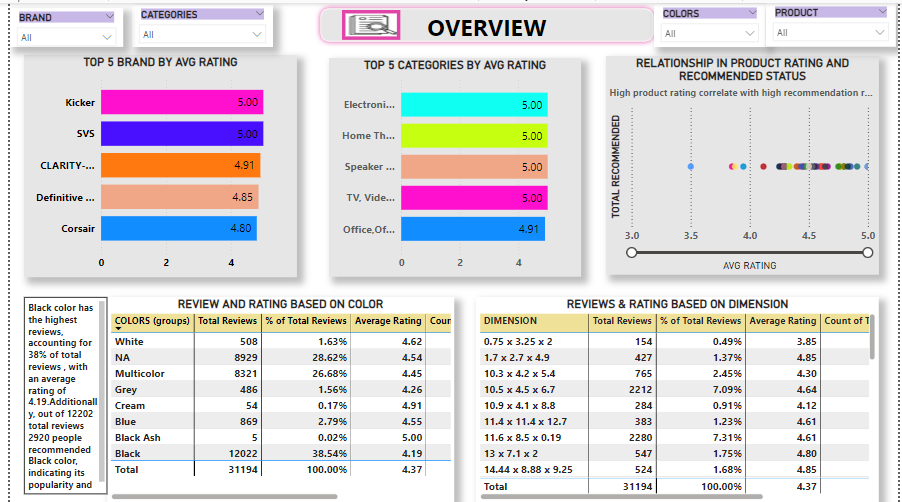

Layout of this report page (visuals, bound fields, positions):
{"tool":"powerbi","page":{"name":"Page 2","canvas":[1280,720],"ordinal":1},"visuals":[{"type":"shape","box":[439.2,0,495.4,63.4],"z":0},{"type":"image","box":[478.1,10.1,83.5,43.2],"z":1000},{"type":"barChart","title":"TOP 5 BRAND BY AVG RATING","fields":{"Category":["Dataset.BRAND"],"Y":["Avg(Dataset.REVIEWS RATING)"]},"box":[20.2,74.9,393.1,319.7],"z":2000},{"type":"clusteredBarChart","title":"TOP 5 CATEGORIES BY AVG RATING","fields":{"Category":["Dataset.CATEGORIES"],"Y":["Avg(Dataset.REVIEWS RATING)"]},"box":[459.4,79.2,362.9,315.4],"z":3000},{"type":"scatterChart","title":"RELATIONSHIP IN PRODUCT RATING AND RECOMMENDED STATUS","fields":{"X":["Avg(Dataset.REVIEWS RATING)"],"Category":["Dataset.PRODUCT"]},"box":[858.2,76.3,393.1,315.4],"z":4000},{"type":"tableEx","title":"REVIEW AND RATING BASED ON COLOR","fields":{"Values":["Dataset.COLORS (groups)","Sum(Dataset.REVIEWS RATING)","Divide(Sum(Dataset.REVIEWS RATING), ScopedEval(Sum(Dataset.REVIEWS RATING), []))","Avg(Dataset.REVIEWS RATING)","Dataset.TOTAL RECOMMENDED REVIEWS"]},"box":[139.7,423.4,499.7,296.6],"z":5000},{"type":"tableEx","title":"REVIEWS & RATING BASED ON DIMENSION","fields":{"Values":["Dataset.DIMENSION","Sum(Dataset.REVIEWS RATING)","Divide(Sum(Dataset.REVIEWS RATING), ScopedEval(Sum(Dataset.REVIEWS RATING), []))","Avg(Dataset.REVIEWS RATING)","Dataset.TOTAL RECOMMENDED REVIEWS"]},"box":[671,423.4,580.3,296.6],"z":6000},{"type":"textbox","box":[20.2,423.4,119.5,283.7],"z":7000},{"type":"slicer","fields":{"Values":["Dataset.BRAND"]},"box":[0,7.2,162.7,56.2],"z":8000},{"type":"slicer","fields":{"Values":["Dataset.CATEGORIES"]},"box":[175.7,2.9,203,60.5],"z":9000},{"type":"slicer","fields":{"Values":["Dataset.COLORS"]},"box":[927.4,1.4,161.3,61.9],"z":10000},{"type":"slicer","fields":{"Values":["Dataset.PRODUCT"]},"box":[1088.6,0,187.2,63.4],"z":11000}]}

Visuals, with their boxes in screenshot pixels (x1, y1, x2, y2), scaled from the page's 1280x720 canvas onto the 902x502 screenshot:
shape: left=309, top=0, right=659, bottom=44
image: left=337, top=7, right=396, bottom=37
"TOP 5 BRAND BY AVG RATING" barChart: left=14, top=52, right=291, bottom=275
"TOP 5 CATEGORIES BY AVG RATING" clusteredBarChart: left=324, top=55, right=579, bottom=275
"RELATIONSHIP IN PRODUCT RATING AND RECOMMENDED STATUS" scatterChart: left=605, top=53, right=882, bottom=273
"REVIEW AND RATING BASED ON COLOR" tableEx: left=98, top=295, right=451, bottom=501
"REVIEWS & RATING BASED ON DIMENSION" tableEx: left=473, top=295, right=882, bottom=501
textbox: left=14, top=295, right=98, bottom=493
slicer - Dataset.BRAND: left=0, top=5, right=115, bottom=44
slicer - Dataset.CATEGORIES: left=124, top=2, right=267, bottom=44
slicer - Dataset.COLORS: left=654, top=1, right=767, bottom=44
slicer - Dataset.PRODUCT: left=767, top=0, right=899, bottom=44
